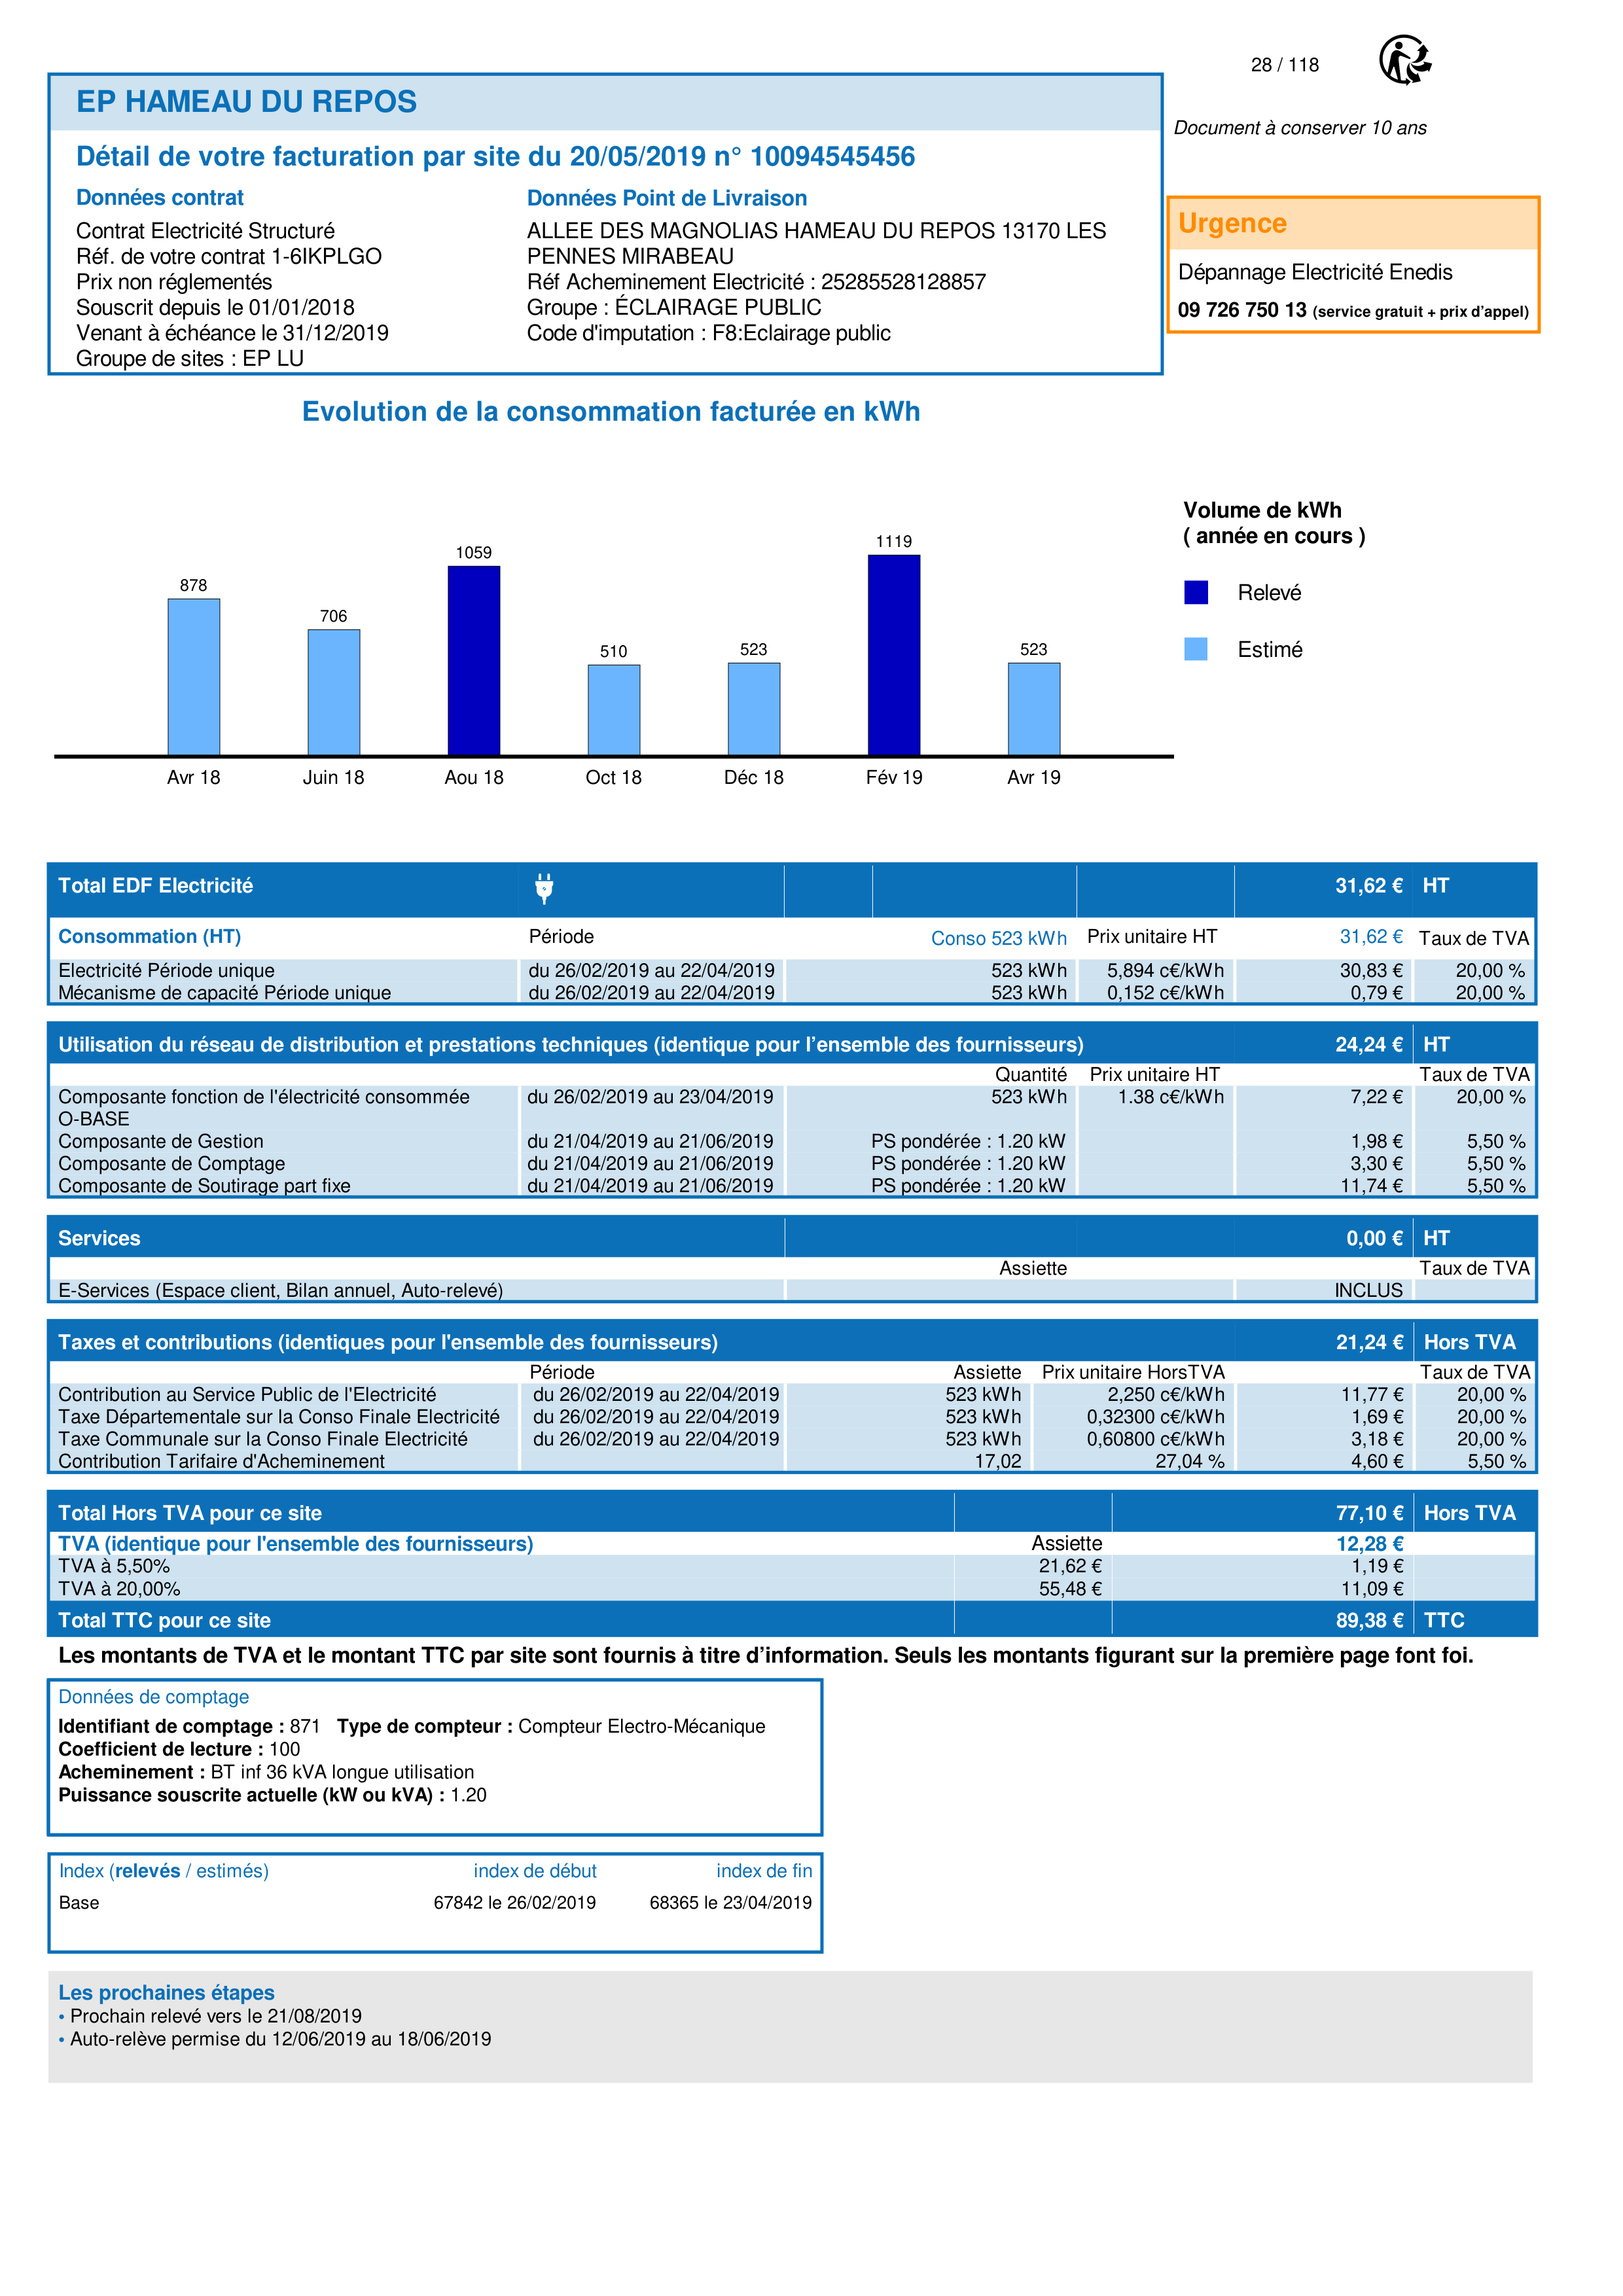area: (48, 1851, 821, 1952)
type_indicator: (48, 1853, 282, 1887)
